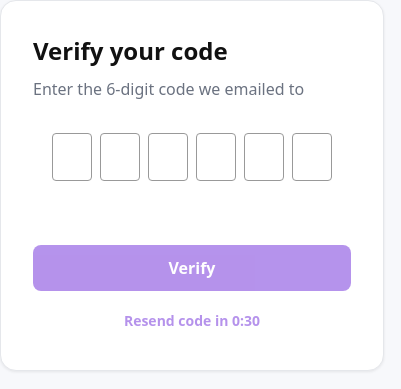
it: VerifyPanel › shows expired error on 410 without clearing the input
Type "111111" into the field with test id "otp-0" at [72, 157], box top-left (52, 133), bottom-right (92, 181)
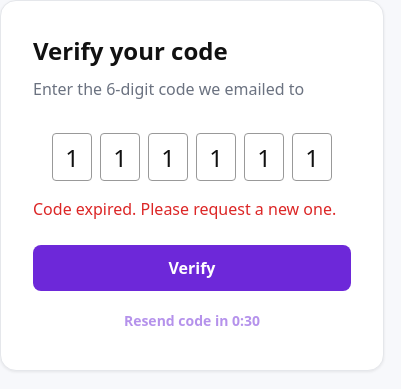
Now the message shows "expired", box top-left (33, 198), bottom-right (336, 220)
